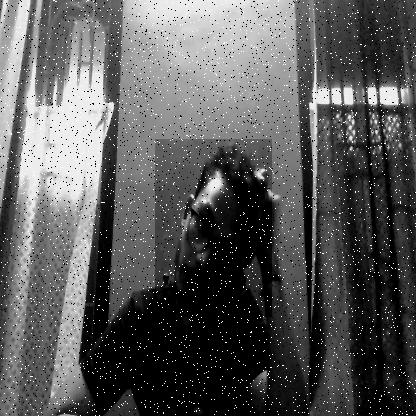Distracted: (155, 139, 272, 317)
